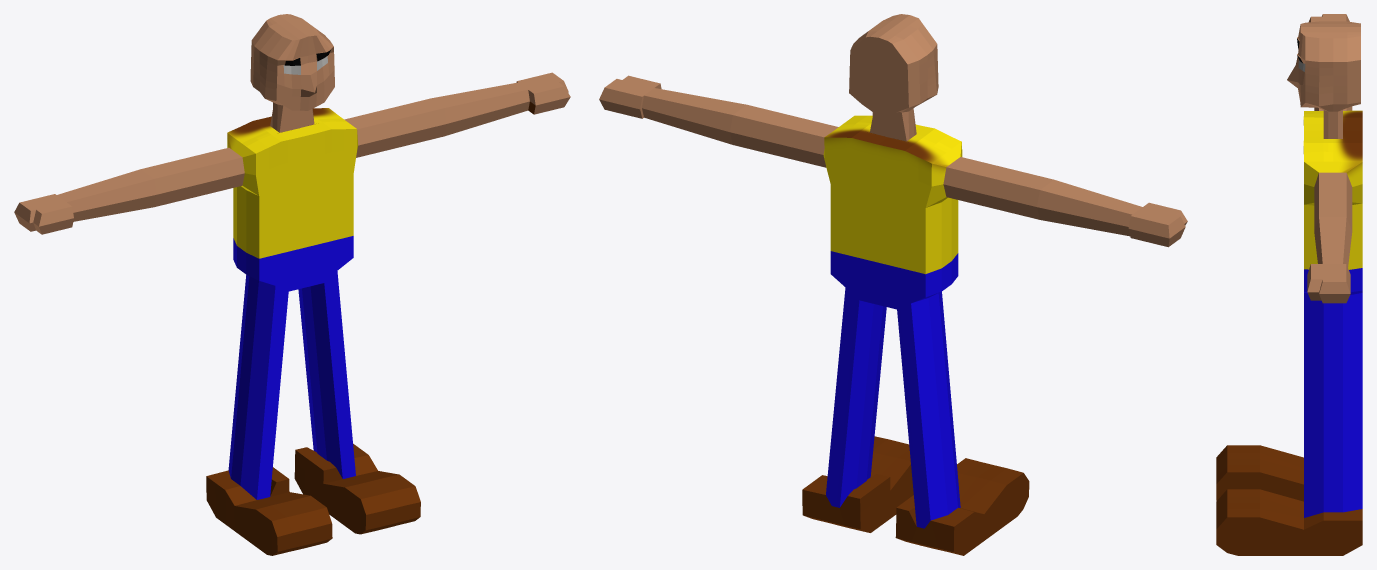
The model's file is RealeNEMY.fbx.
The picture shows the model from 3 angles, left to right: view 1: azimuth 30°, elevation 25°; view 2: azimuth 150°, elevation 25°; view 3: azimuth 270°, elevation 25°; orthographic projection. The views are drawn at different scales.
Visible parts, largest first — view 1: Cube; view 2: Cube; view 3: Cube.
Part boxes in pixels (left/top/right/bottom): Cube: left=14, top=14, right=570, bottom=555; Cube: left=599, top=14, right=1187, bottom=555; Cube: left=1216, top=14, right=1362, bottom=555.
Size of the model in its own units: 1065 by 904 by 244.
